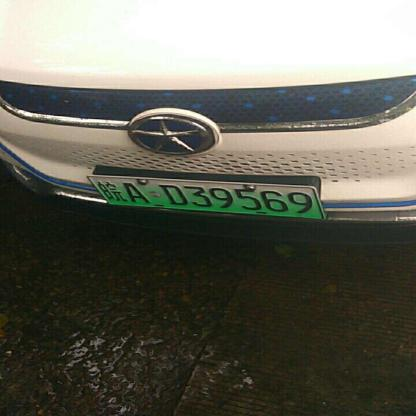lp: (89, 176, 322, 217)
